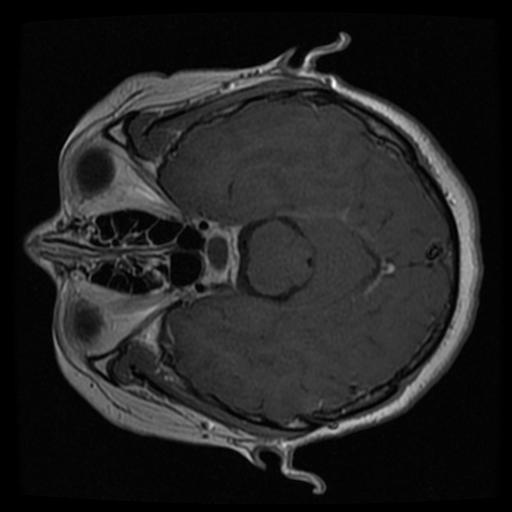pituitary tumour: (198, 222, 239, 285)
